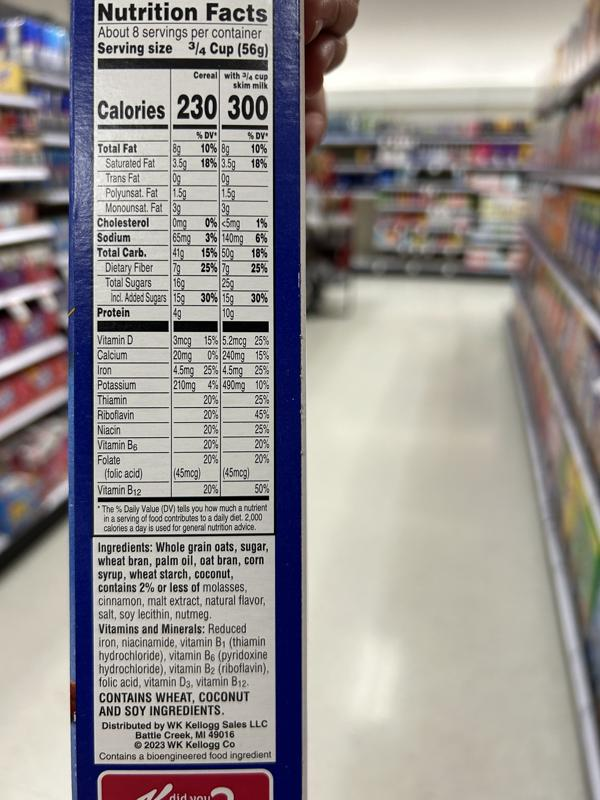ingredients: (95, 541, 269, 621)
